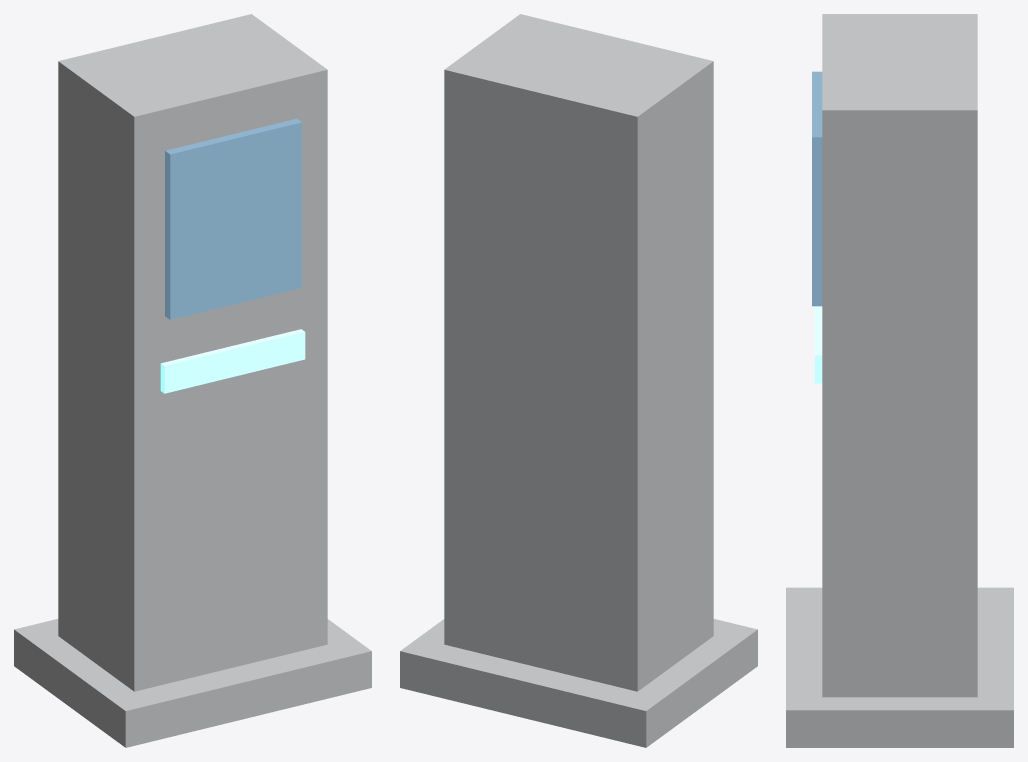
File: charging-pile.gltf
The picture shows the model from 3 angles, left to right: view 1: azimuth 30°, elevation 25°; view 2: azimuth 150°, elevation 25°; view 3: azimuth 270°, elevation 25°; orthographic projection. The views are drawn at different scales.
Visible parts, largest first — view 1: charging-pile; view 2: charging-pile; view 3: charging-pile.
Part boxes in pixels (x1,y1,x2,y2): charging-pile: [14, 14, 371, 747]; charging-pile: [400, 14, 757, 747]; charging-pile: [786, 14, 1013, 747].
Size of the model in its own units: 0.56 by 1.33 by 0.44.
